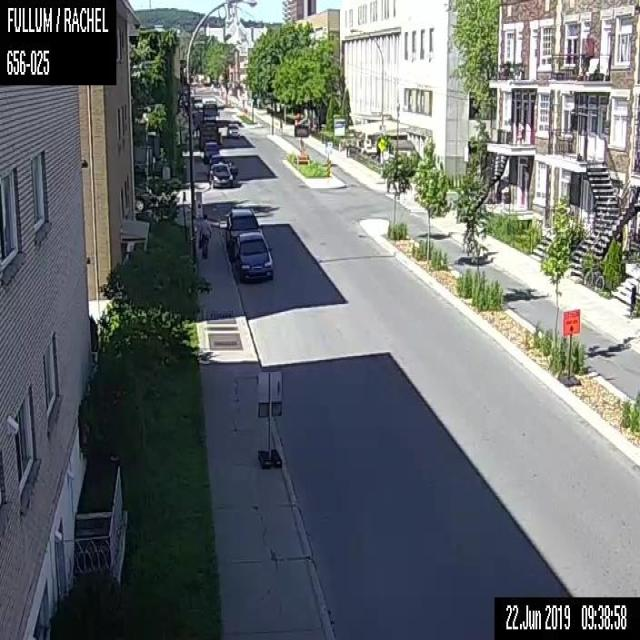bus: (202, 97, 219, 121)
construction: (293, 124, 309, 164), (562, 308, 580, 333)
pedestrian: (198, 213, 211, 260)
vehicle: (224, 206, 261, 258), (234, 232, 272, 281), (209, 163, 237, 188), (202, 142, 218, 163), (209, 154, 227, 166), (227, 122, 240, 137)
